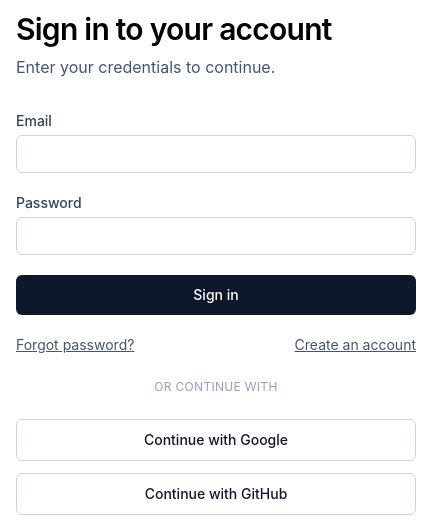
Test case: LoginPage — OAuth start (spec §4.10) › starts the flow with the allowlisted provider, stashes the validated next and leaves
Click the button "Continue with GitHub".
click(216, 494)  # box 16,473 -> 416,515
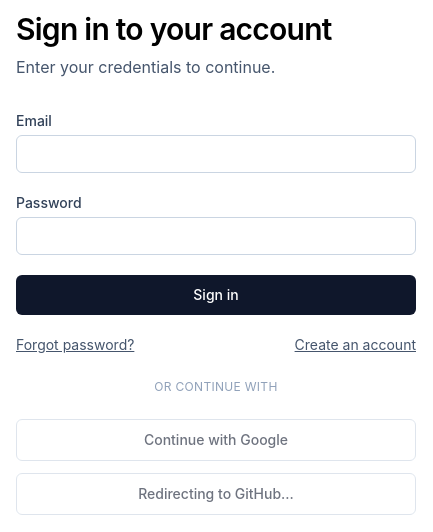
Expected: the button "Redirecting to GitHub…" is disabled, 16,473 -> 416,515
Expected: the button "Continue with Google" is disabled, 16,419 -> 416,461
